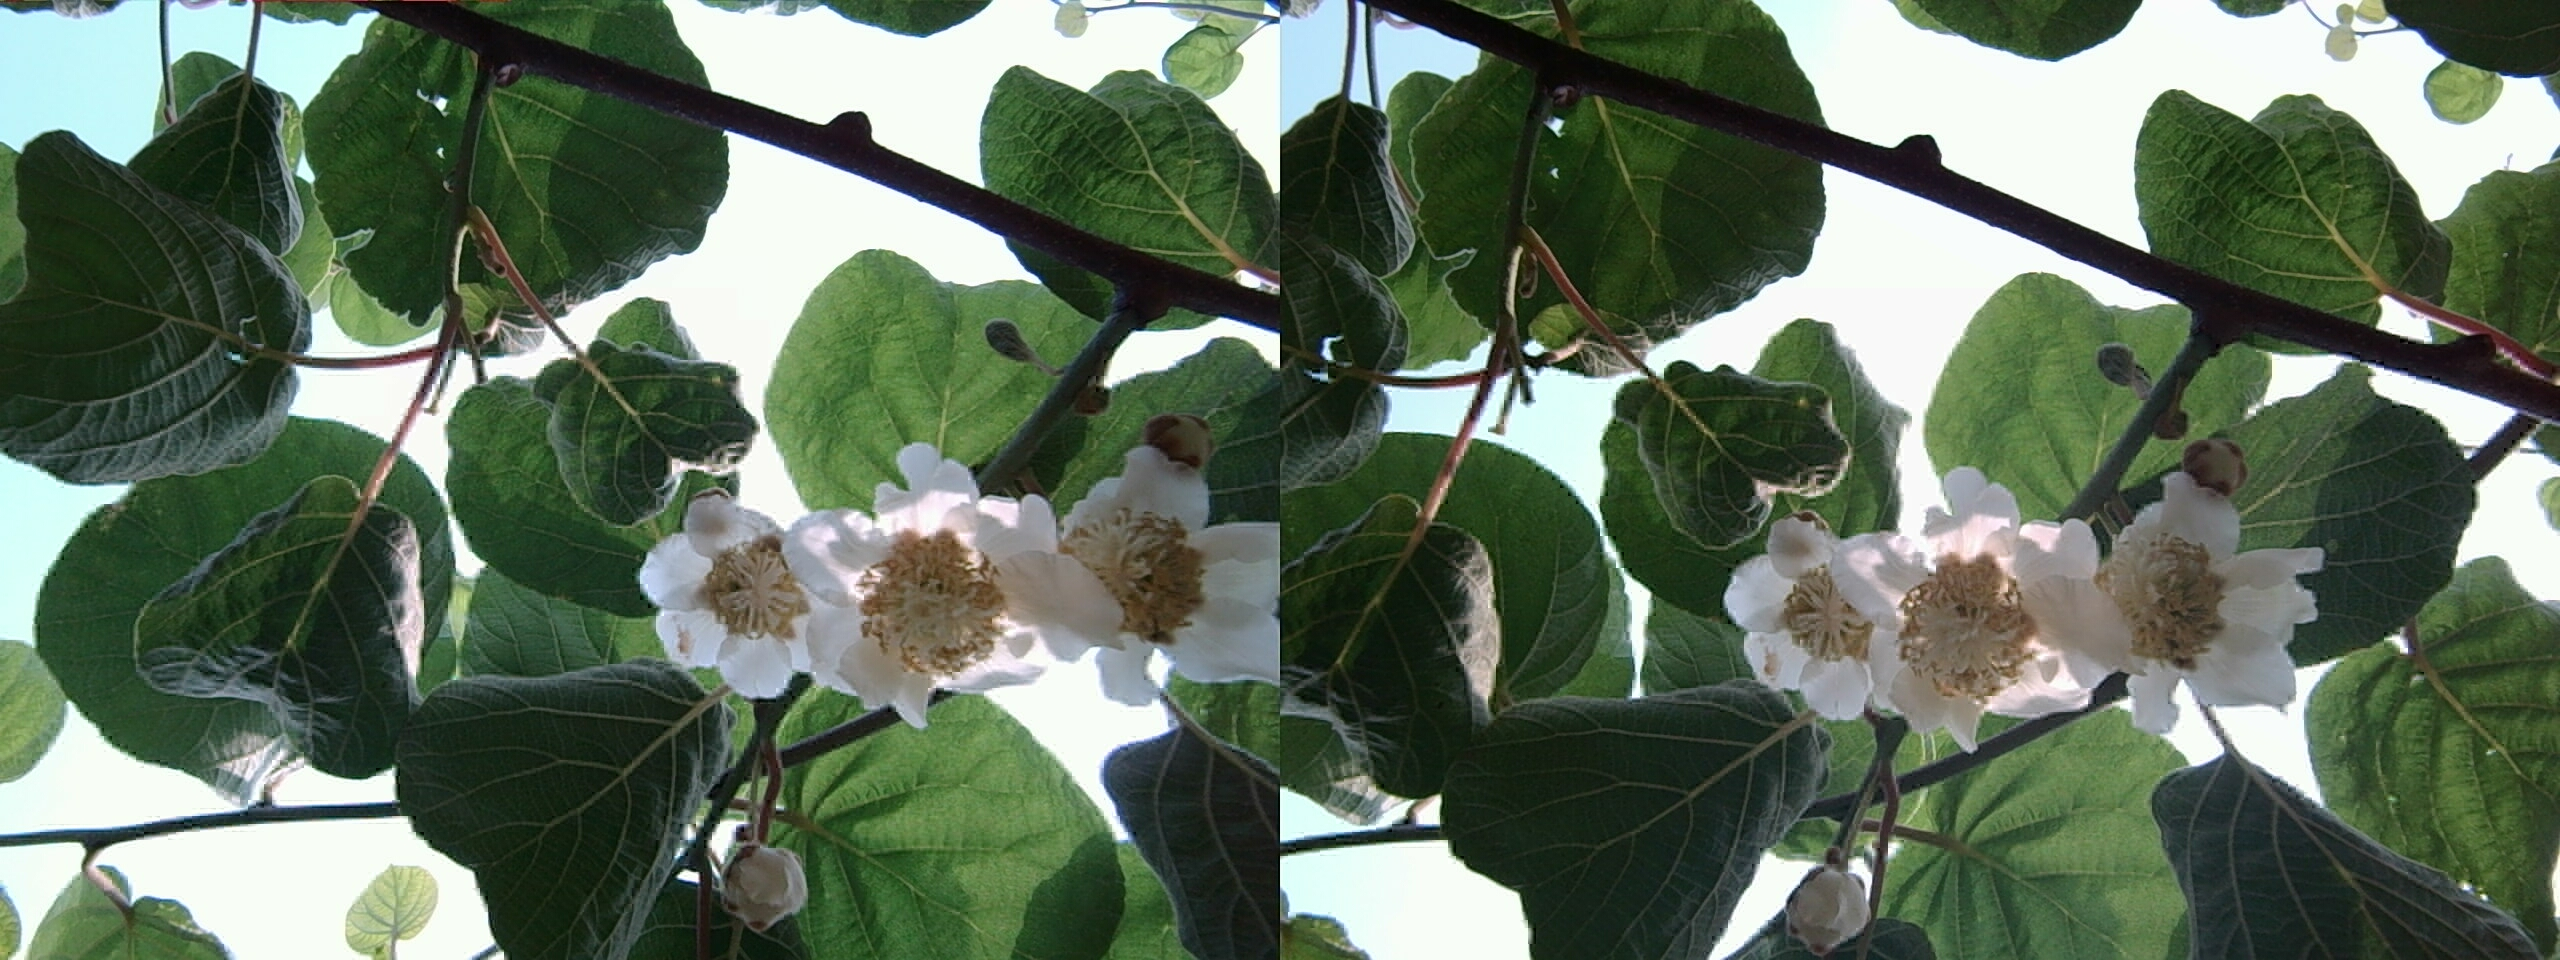flower: (2039, 465, 2309, 709), (793, 459, 1048, 709), (1851, 498, 2087, 738), (1038, 424, 1257, 679), (642, 493, 842, 692), (1724, 503, 1899, 710)
